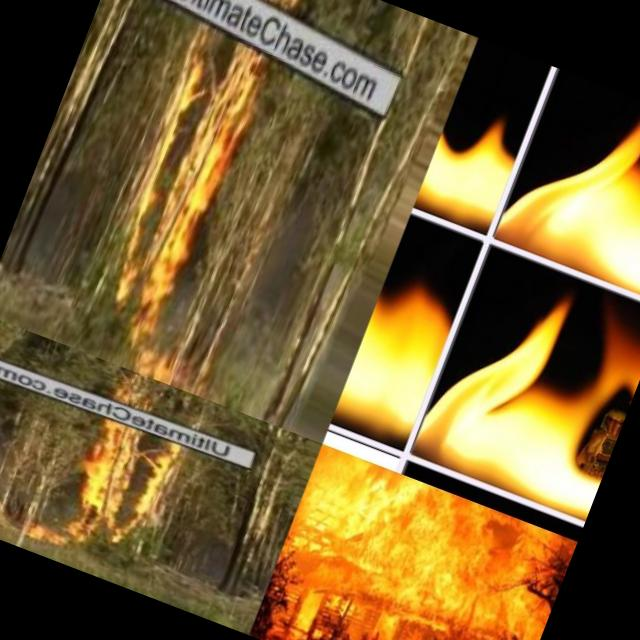fire: (249, 444, 577, 640), (407, 260, 640, 519), (88, 38, 272, 334), (495, 73, 640, 310), (331, 242, 468, 448), (412, 39, 548, 236), (67, 418, 190, 543), (26, 505, 92, 556)
